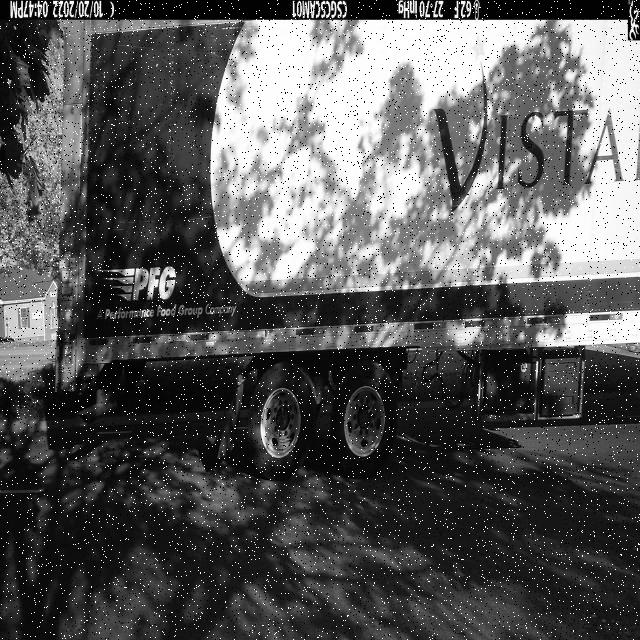Box Truck: (55, 20, 640, 483)
